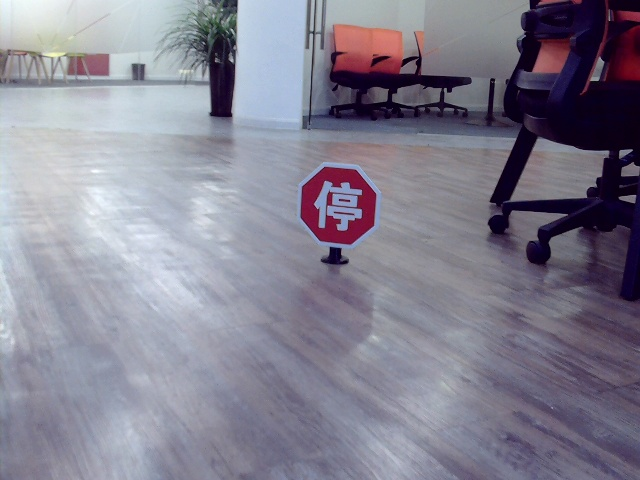stop: (310, 178, 364, 231)
